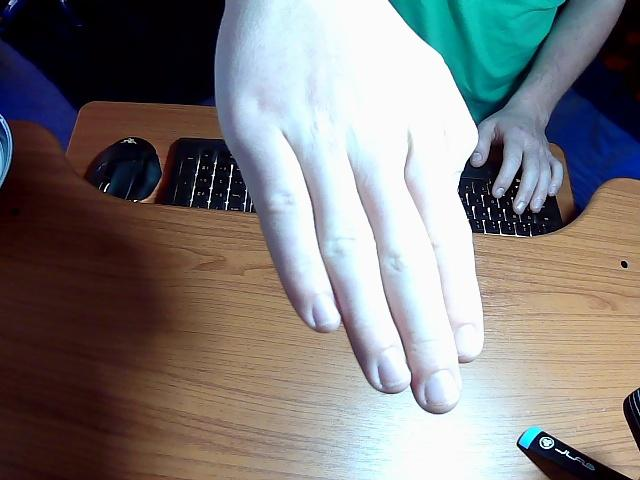paper: (215, 2, 484, 413)
